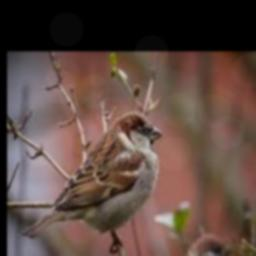Sparrow: (22, 111, 163, 251)
